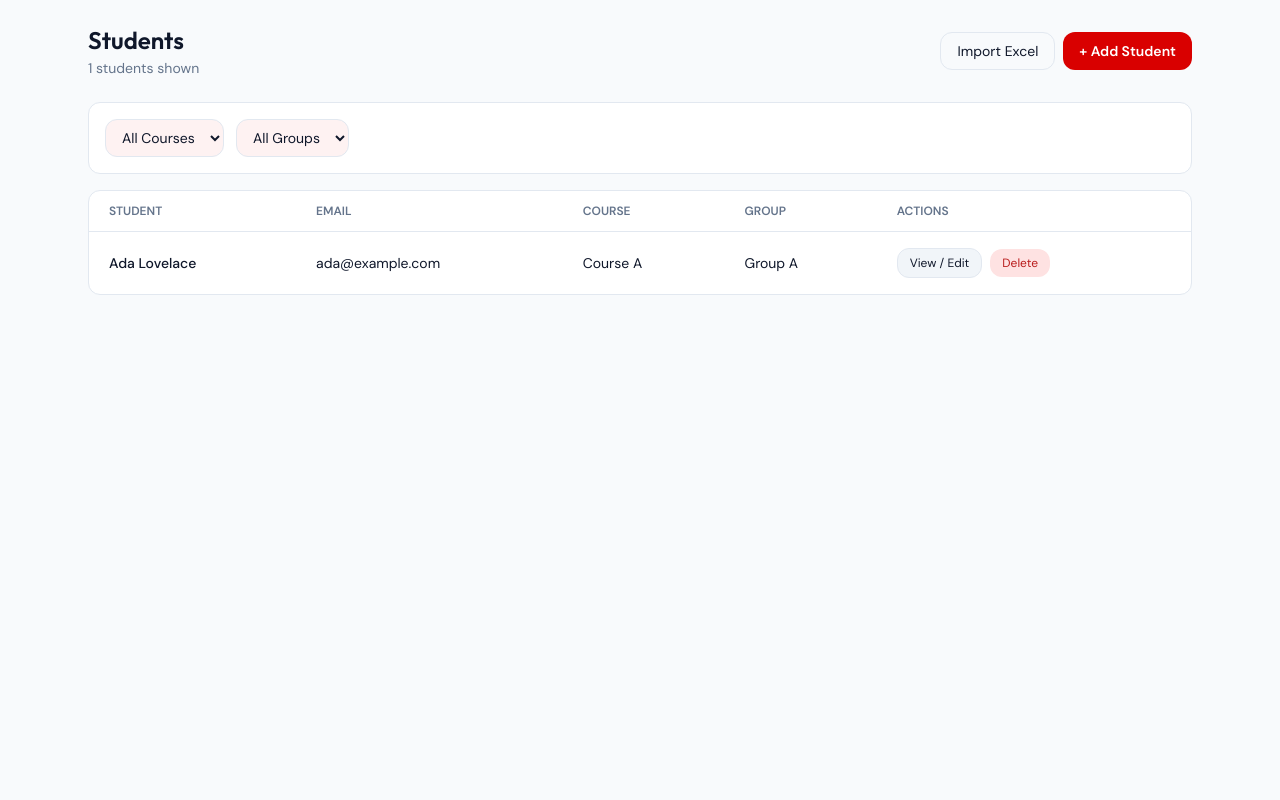
Test: AdminStudents › opens the edit modal pre-filled with the student data
Expected: the heading "Students" is shown, [88,24,199,56]
Expected: the text "Ada Lovelace" is shown, [89,232,296,294]
Click the button "View / Edit" at [940, 263], box [897,248,982,278]
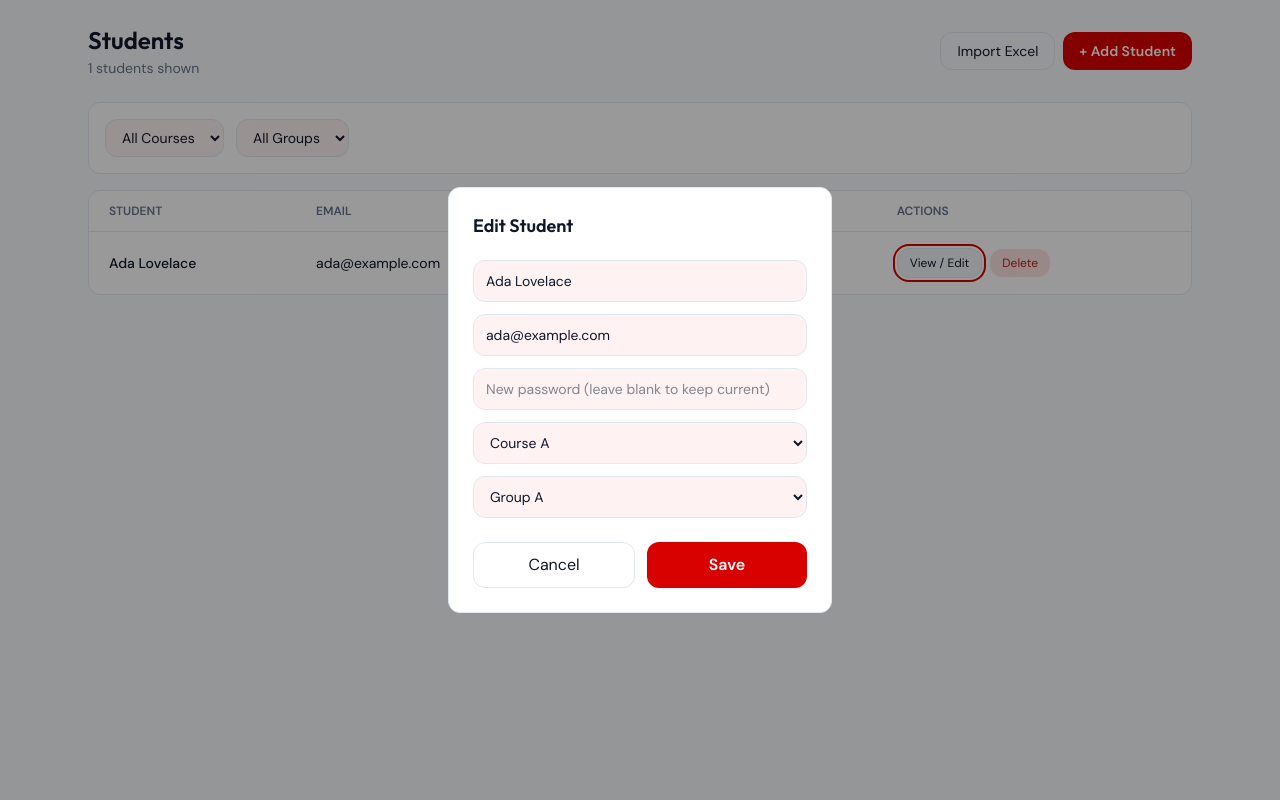
Now the heading "Edit Student" is shown, box [473,214,573,237]
Now the 1st field with placeholder "Full name" holds "Ada Lovelace", box [473,260,807,302]
Now the 2nd field with placeholder "Email" holds "ada@example.com", box [473,314,807,356]
